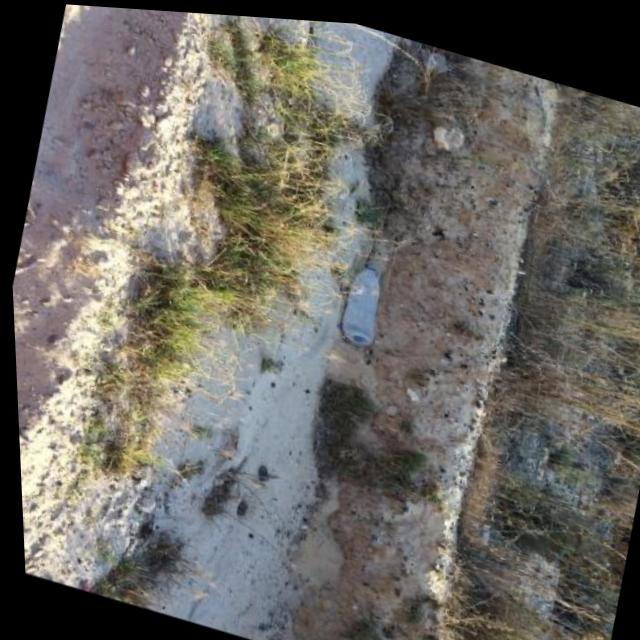plastic: (334, 259, 390, 351)
